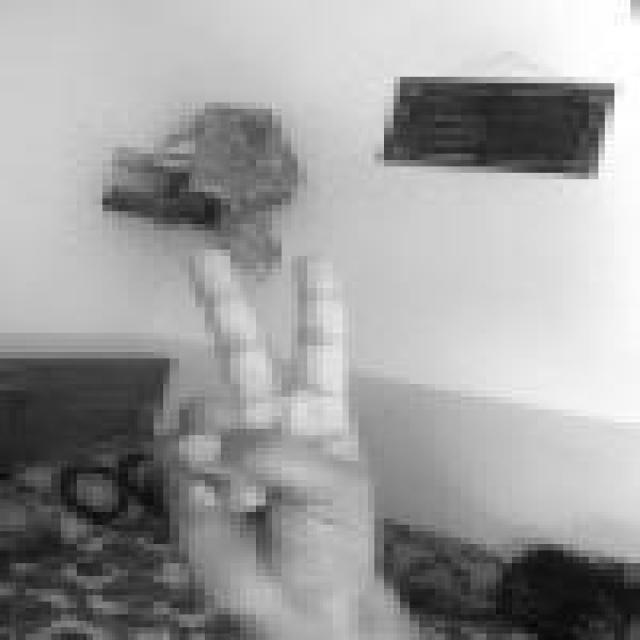V: (147, 242, 384, 610)
